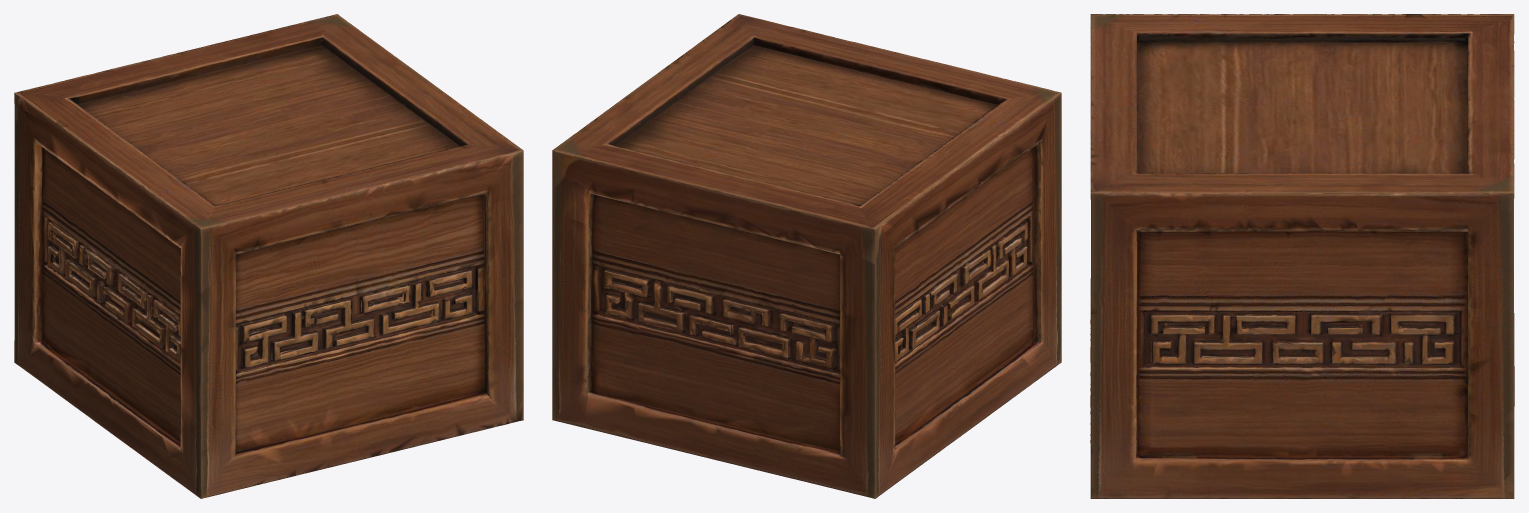
File: Meshy_AI_Ancient_Crate_0310034941_texture.glb
The picture shows the model from 3 angles, left to right: view 1: azimuth 30°, elevation 25°; view 2: azimuth 150°, elevation 25°; view 3: azimuth 270°, elevation 25°; orthographic projection. The views are drawn at different scales.
Size of the model in its own units: 2 by 1.59 by 2.
1 material, 1 textured.
